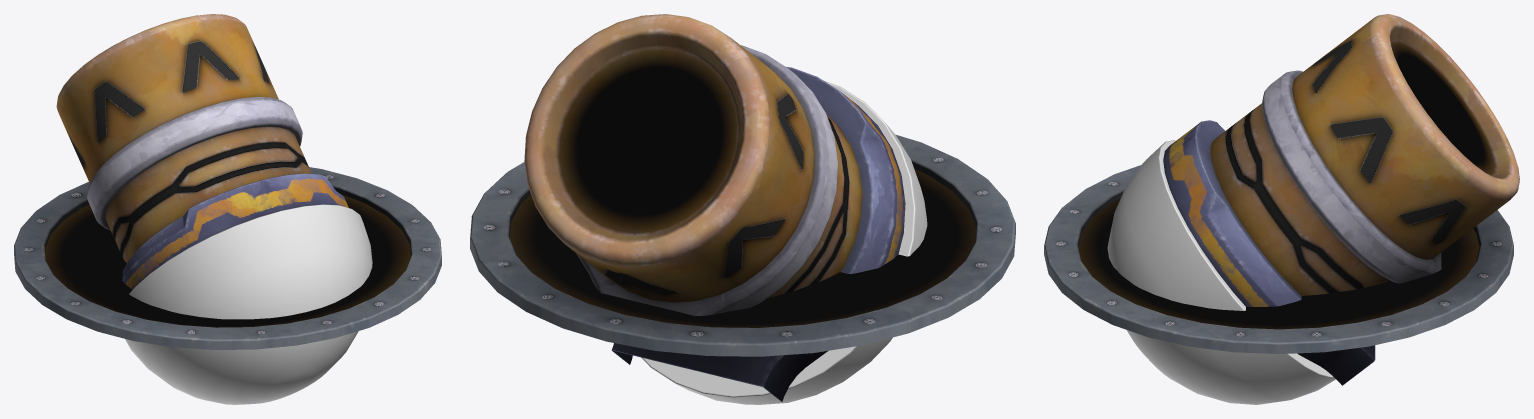
Rendered from SM_Cannon_Vertical.fbx.
3 views of the same model, side by side, from view 1: azimuth 30°, elevation 25°; view 2: azimuth 150°, elevation 25°; view 3: azimuth 270°, elevation 25° (orthographic). The views are drawn at different scales.
Parts seen in each view (by area): view 1: CannonRotate_low.003, CannonBase_low.003; view 2: CannonRotate_low.003, CannonBase_low.003; view 3: CannonRotate_low.003, CannonBase_low.003.
Boxes of the visible parts, x1,y1,x2,y2 form: CannonRotate_low.003: (56, 14, 372, 404); CannonBase_low.003: (14, 167, 441, 349); CannonRotate_low.003: (524, 14, 927, 404); CannonBase_low.003: (470, 135, 1015, 356); CannonRotate_low.003: (1107, 14, 1519, 404); CannonBase_low.003: (1044, 165, 1513, 353).
Size of the model in its own units: 600 by 512 by 608.
